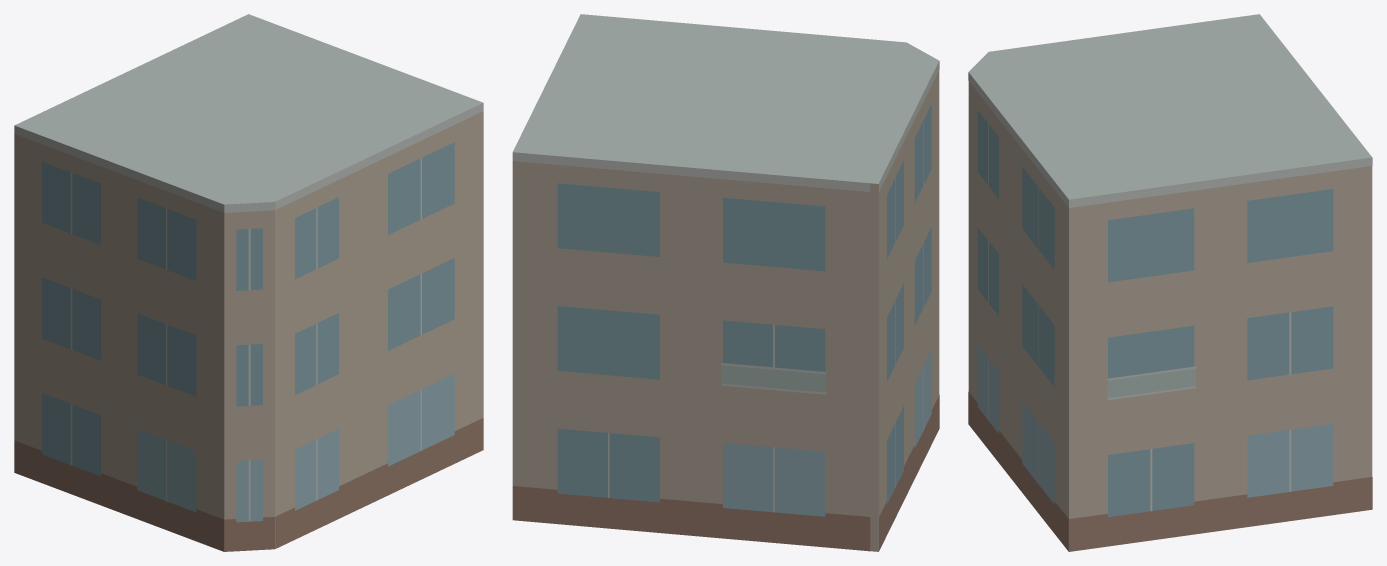
The model's file is survey-upis-32624522.glb.
3 renders of one model, left to right at view 1: azimuth 30°, elevation 25°; view 2: azimuth 150°, elevation 25°; view 3: azimuth 270°, elevation 25°, orthographic. The views are drawn at different scales.
Parts seen in each view (by area): view 1: survey-upis-32624522.tmp; view 2: survey-upis-32624522.tmp; view 3: survey-upis-32624522.tmp.
Boxes of the visible parts, x1,y1,x2,y2 form: survey-upis-32624522.tmp: (14,14,483,551); survey-upis-32624522.tmp: (512,14,939,551); survey-upis-32624522.tmp: (968,14,1372,551).
Size of the model in its own units: 11.55 by 10.2 by 10.61.
